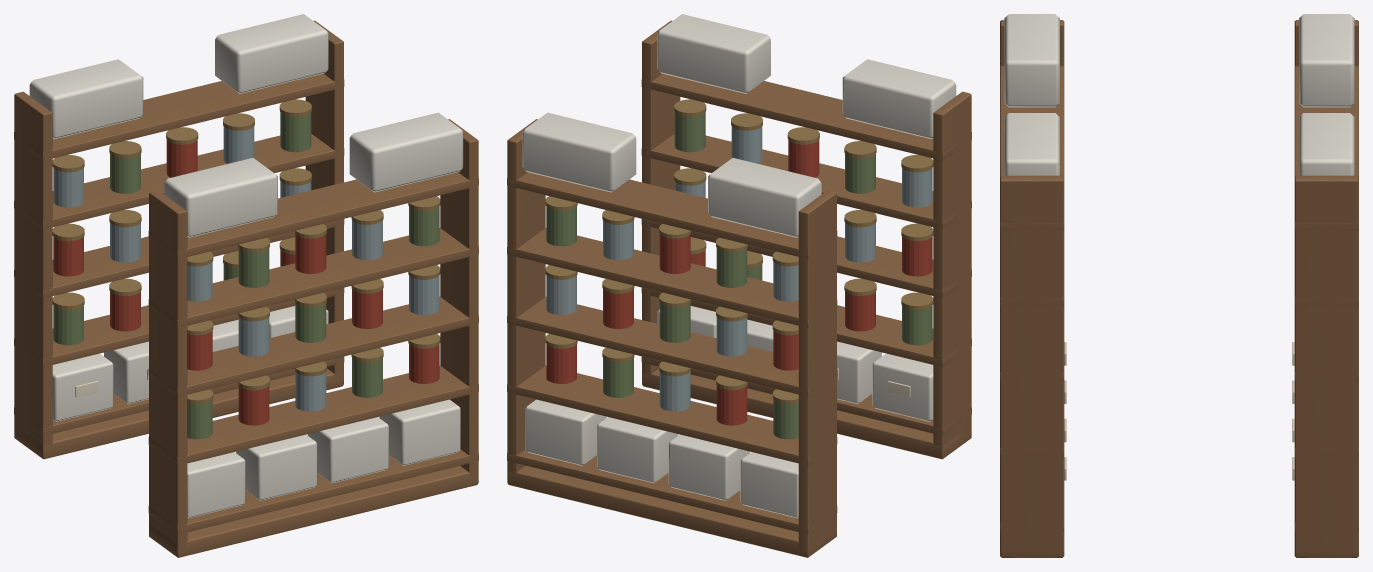
Rendered from pantry-furniture-v002.glb.
3 renders of one model, left to right at view 1: azimuth 30°, elevation 25°; view 2: azimuth 150°, elevation 25°; view 3: azimuth 270°, elevation 25°, orthographic. The views are drawn at different scales.
Visible parts, largest first — view 1: Export south-shelving plinth; view 2: Export south-shelving plinth; view 3: Export south-shelving plinth.
Part boxes in pixels (<box>): Export south-shelving plinth: <box>14,14,478,557</box>; Export south-shelving plinth: <box>507,14,971,557</box>; Export south-shelving plinth: <box>1000,14,1358,557</box>.
Size of the model in its own units: 2.02 by 2.29 by 1.9.
